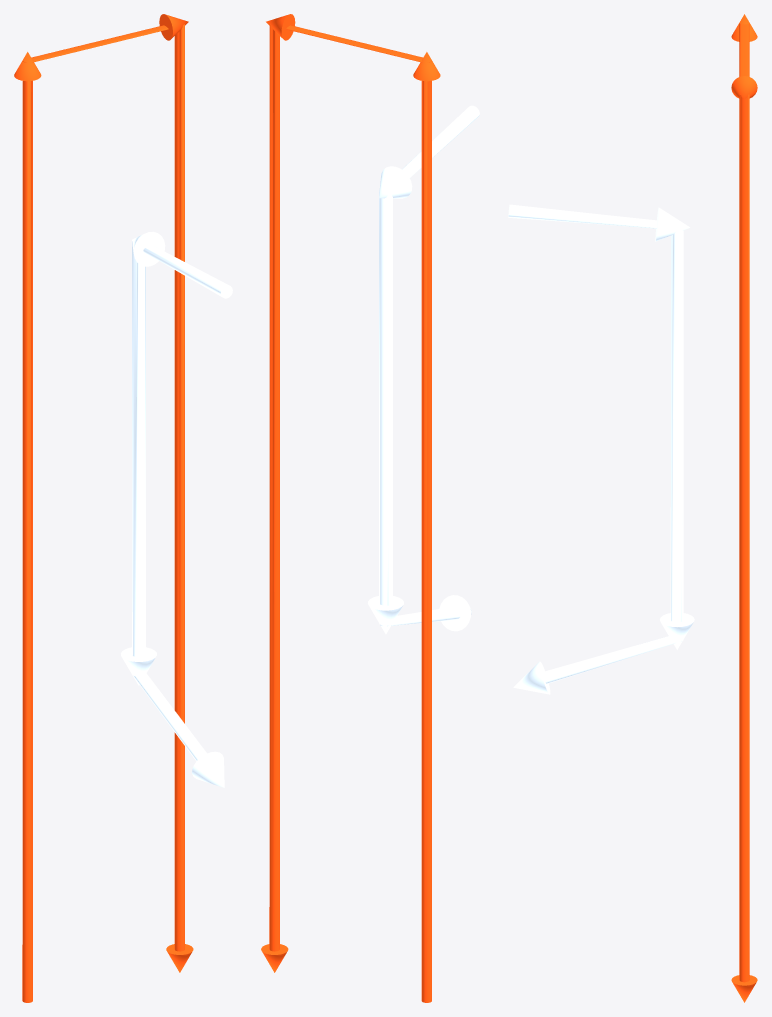
File: digestion_heater_flow.glb
The picture shows the model from 3 angles, left to right: view 1: azimuth 30°, elevation 25°; view 2: azimuth 150°, elevation 25°; view 3: azimuth 270°, elevation 25°; orthographic projection. The views are drawn at different scales.
Visible parts, largest first — view 1: slurry_path, vapour; view 2: slurry_path, vapour; view 3: slurry_path, vapour.
Boxes of the visible parts, x1,y1,x2,y2 form: slurry_path: [14, 14, 193, 1002]; vapour: [121, 231, 232, 787]; slurry_path: [261, 14, 440, 1002]; vapour: [368, 105, 479, 634]; slurry_path: [731, 14, 757, 1002]; vapour: [508, 204, 694, 694].
Bounding box in the file's own units: 0.578 × 3.02 × 0.741.
